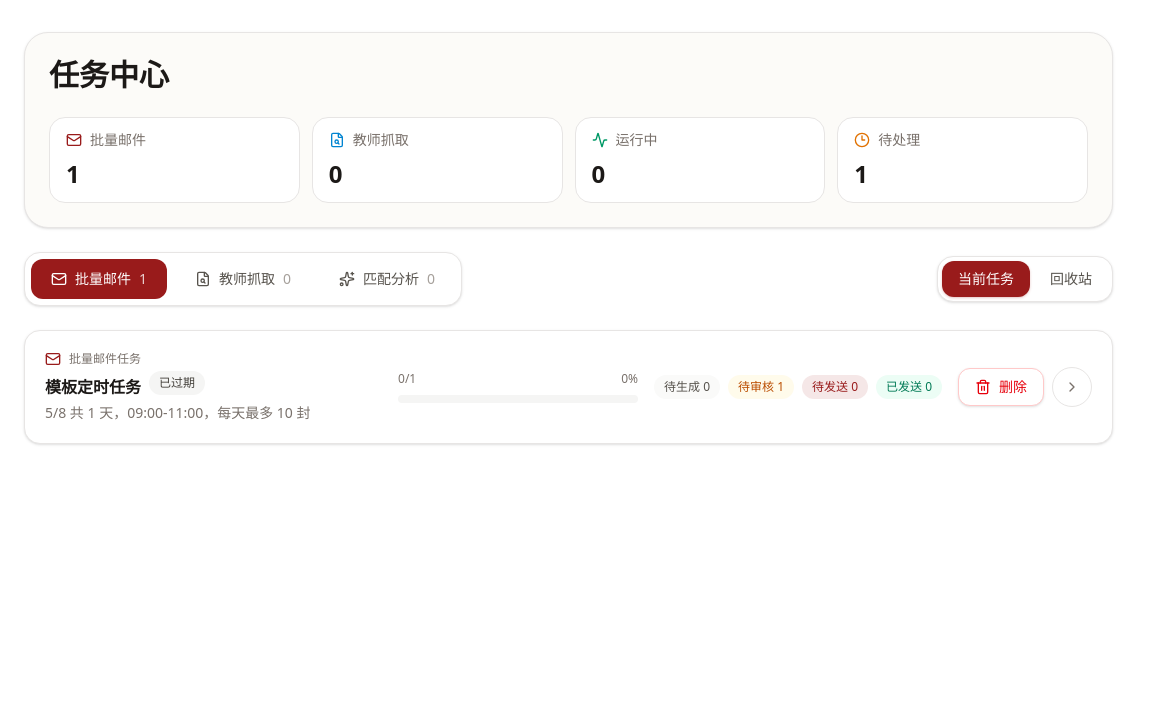
Test: batch task expiration display › shows expired batch status and schedule-expired cancellation text in the detail panel
Check: the heading "模板定时任务" is shown, box left=45, top=375, right=141, bottom=399
Check: the text "已过期" is shown, box left=149, top=371, right=205, bottom=395
Click the button named "查看详情" at point(1072, 387), box left=1052, top=367, right=1092, bottom=407
(page scrolled)
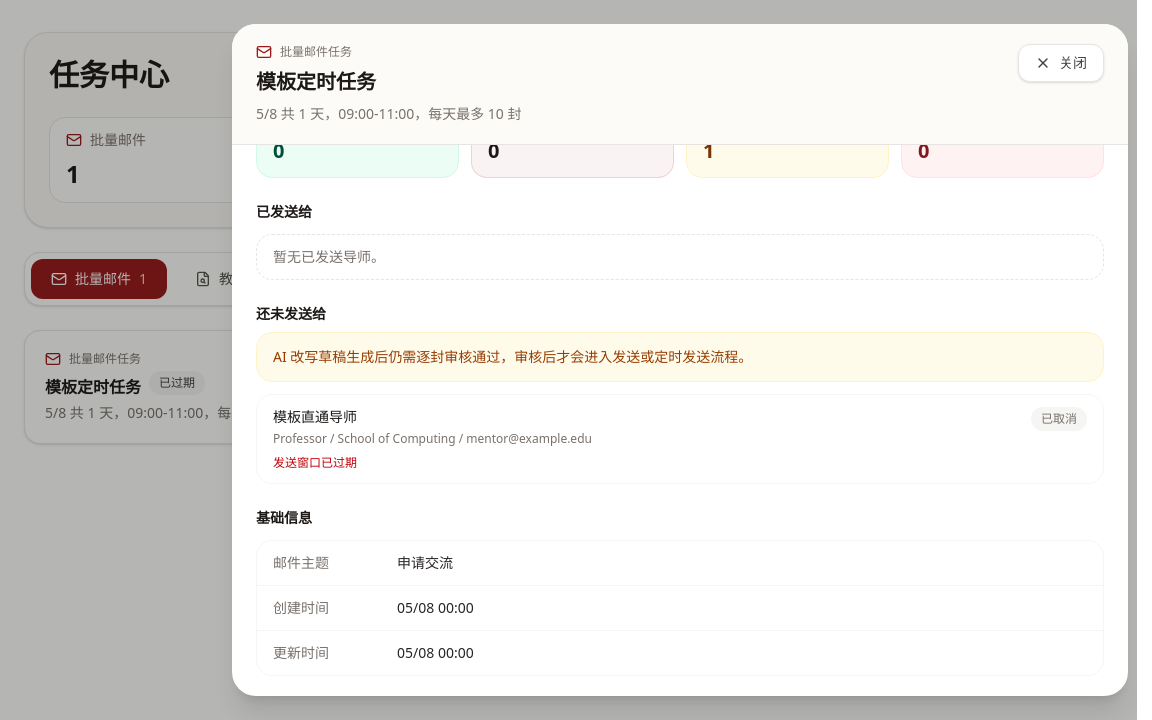
Check: the text "发送窗口已过期" is shown, box left=273, top=455, right=357, bottom=471
